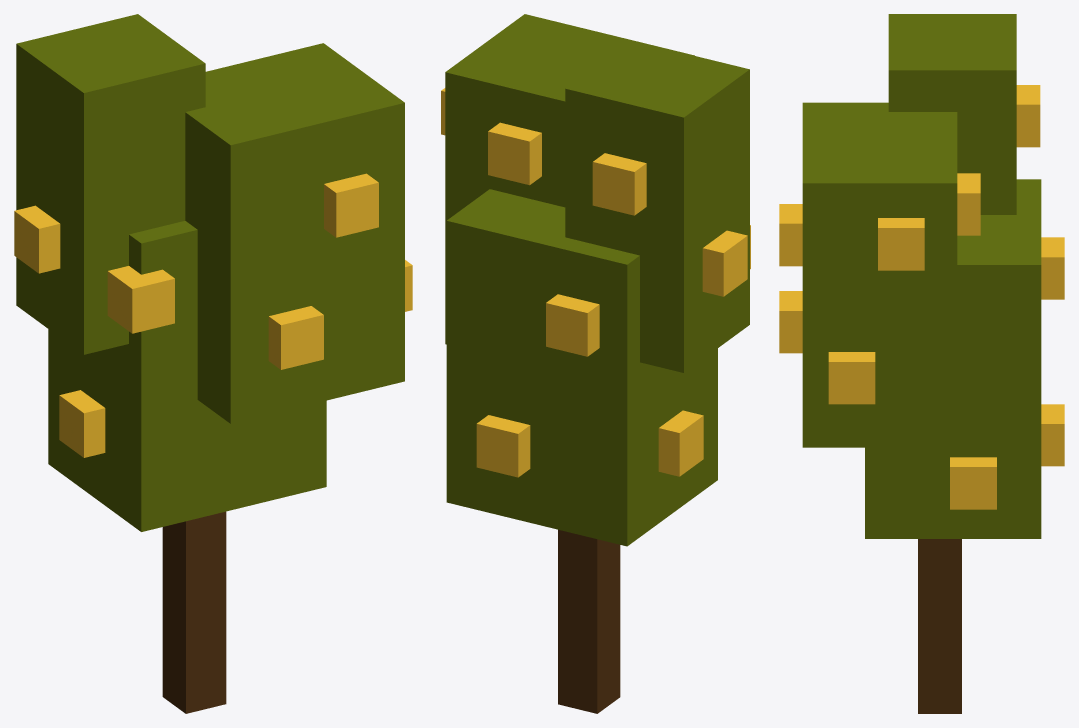
Rendered from FarmFruitTreeYellow_01.fbx.
3 renders of one model, left to right at view 1: azimuth 30°, elevation 25°; view 2: azimuth 150°, elevation 25°; view 3: azimuth 270°, elevation 25°, orthographic. The views are drawn at different scales.
Visible parts, largest first — view 1: FarmFruitTreeYellow_01; view 2: FarmFruitTreeYellow_01; view 3: FarmFruitTreeYellow_01.
Part boxes in pixels (bbox=[...]): FarmFruitTreeYellow_01: bbox=[14, 14, 412, 713]; FarmFruitTreeYellow_01: bbox=[441, 14, 750, 713]; FarmFruitTreeYellow_01: bbox=[779, 14, 1064, 713].
Size of the model in its own units: 0.4124 by 0.817 by 0.3373.
